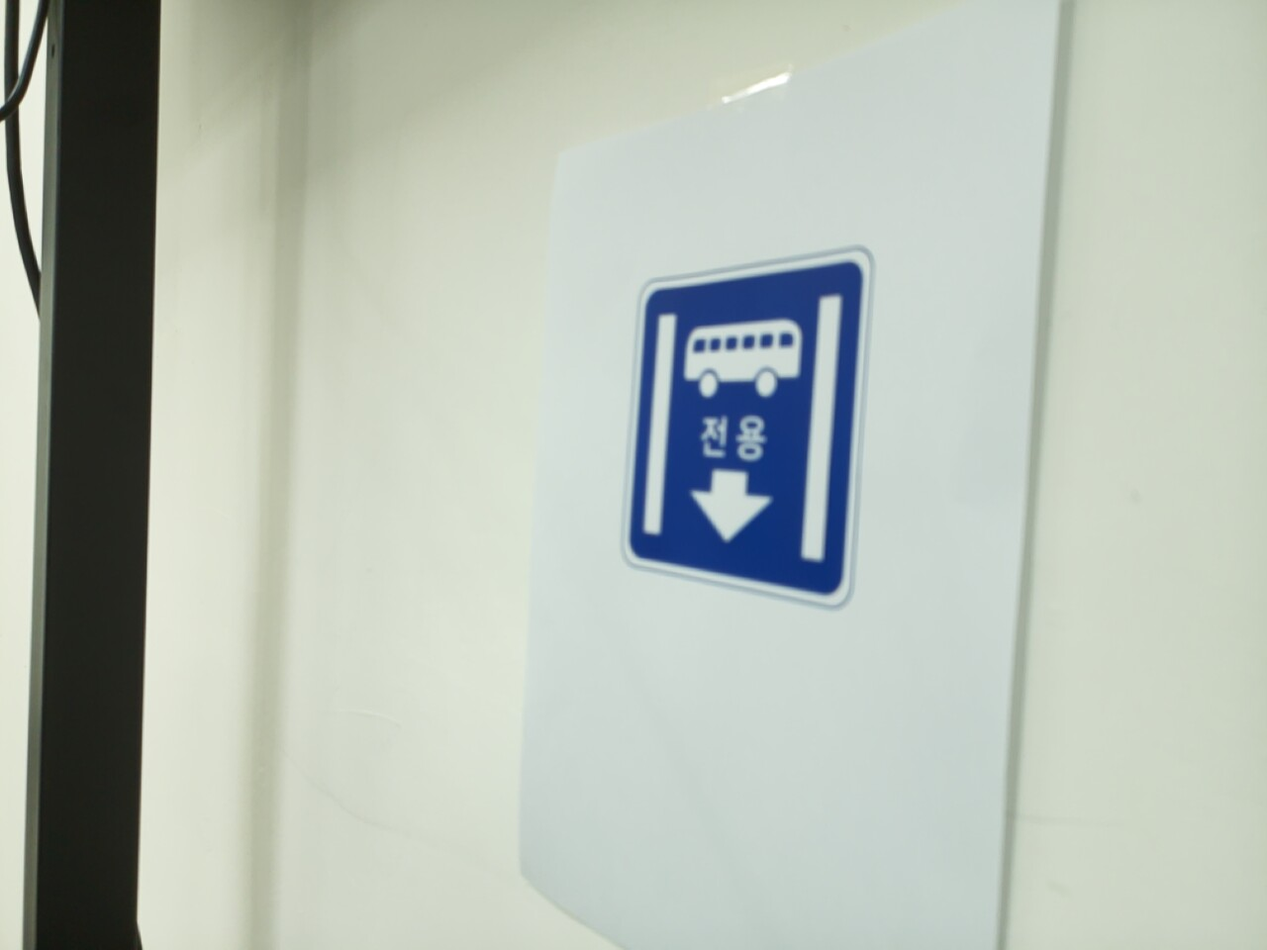bus_only_lane: (622, 251, 871, 606)
